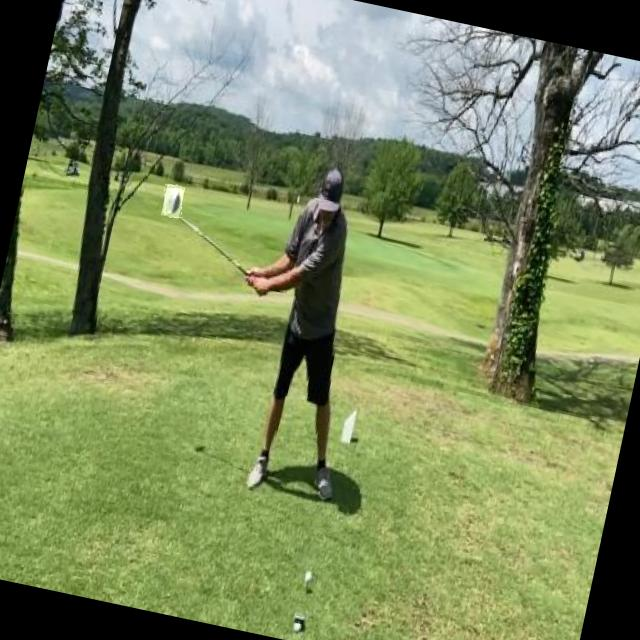club head: (160, 183, 185, 218)
